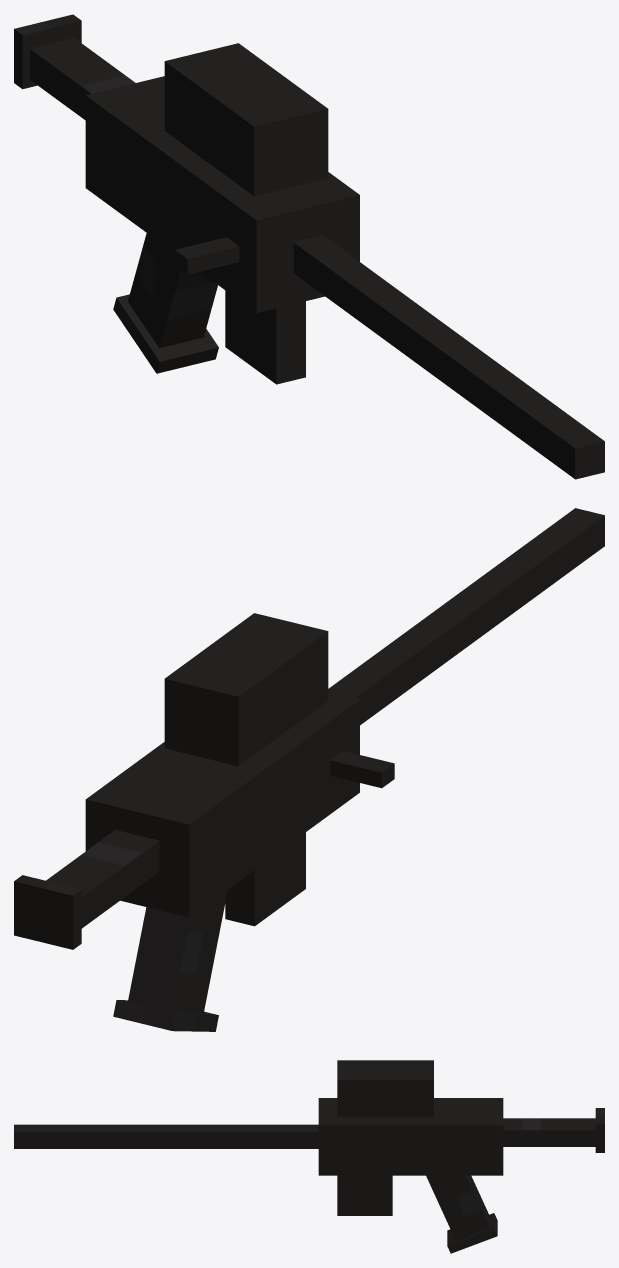
File: sniper1.obj
The picture shows the model from 3 angles, top to bottom: view 1: azimuth 30°, elevation 25°; view 2: azimuth 150°, elevation 25°; view 3: azimuth 270°, elevation 25°; orthographic projection. The views are drawn at different scales.
Parts seen in each view (by area): view 1: cube; view 2: cube; view 3: cube.
Part boxes in pixels (bbox=[...]): cube: bbox=[14, 14, 604, 479]; cube: bbox=[14, 508, 604, 1031]; cube: bbox=[14, 1060, 604, 1253].
Size of the model in its own units: 5.25 by 10.52 by 32.
Materials: 1 (1 with a texture image).
